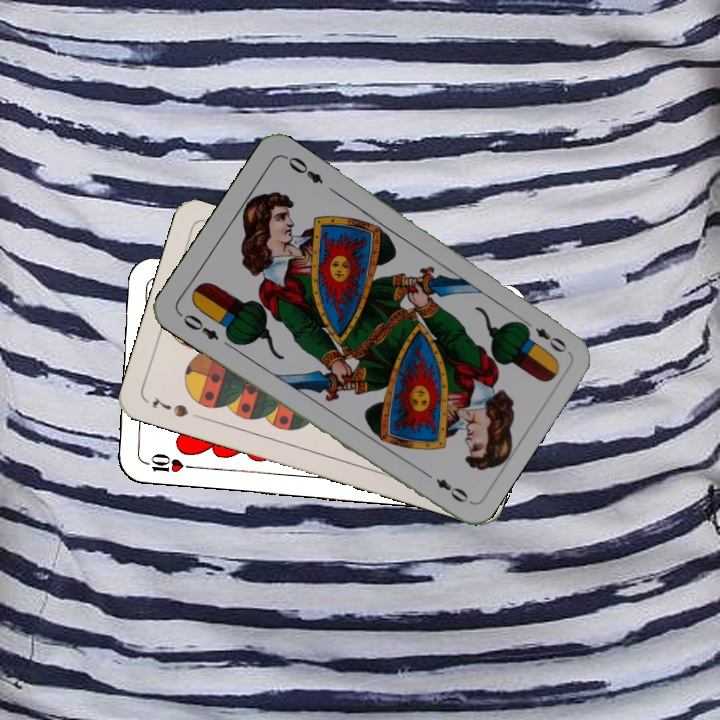EO: (518, 316, 570, 356), (179, 310, 222, 343)
H10: (139, 450, 198, 475)
S7: (148, 393, 191, 420)
